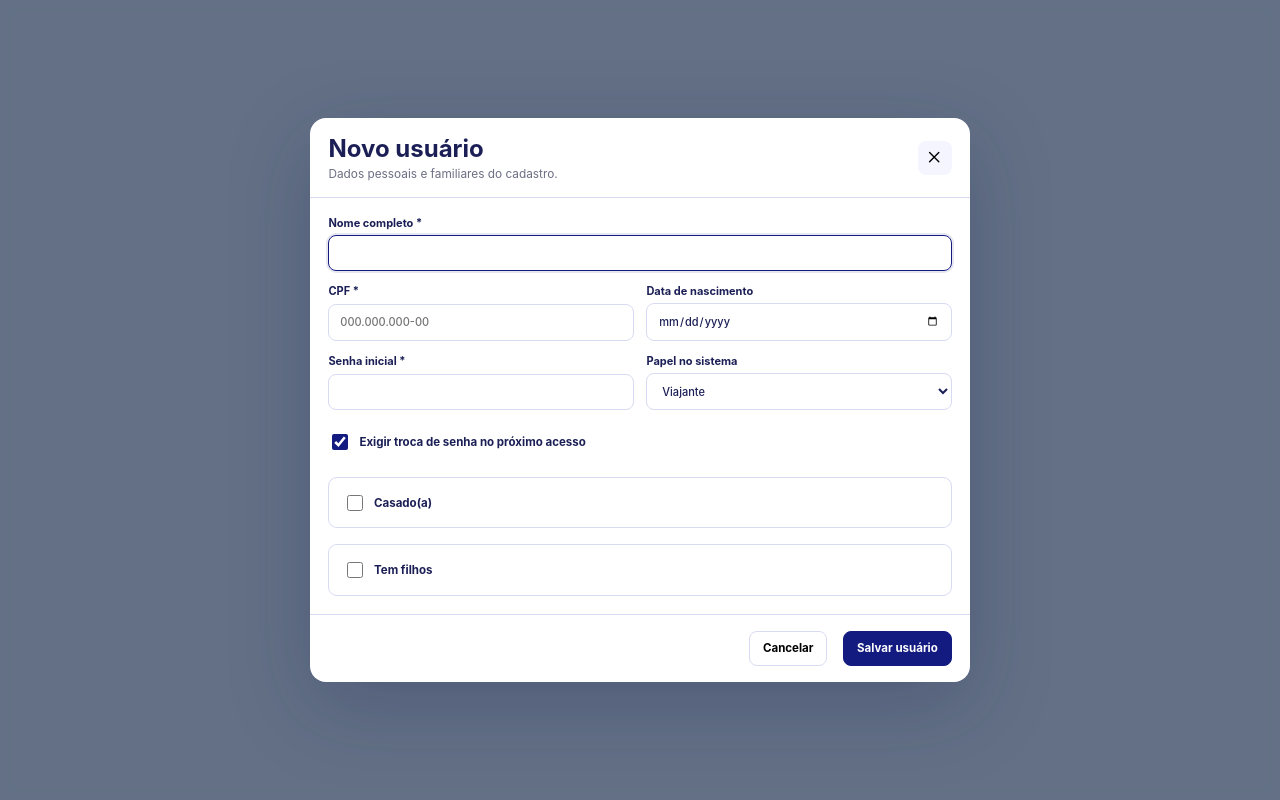
UserForm › mantém o modal aberto e não anuncia sucesso após erro HTTP
The width and height of the screenshot is (1280, 800).
Type "Ana Lima" into the field labelled "Nome completo *" at (640, 253), box left=328, top=235, right=952, bottom=271
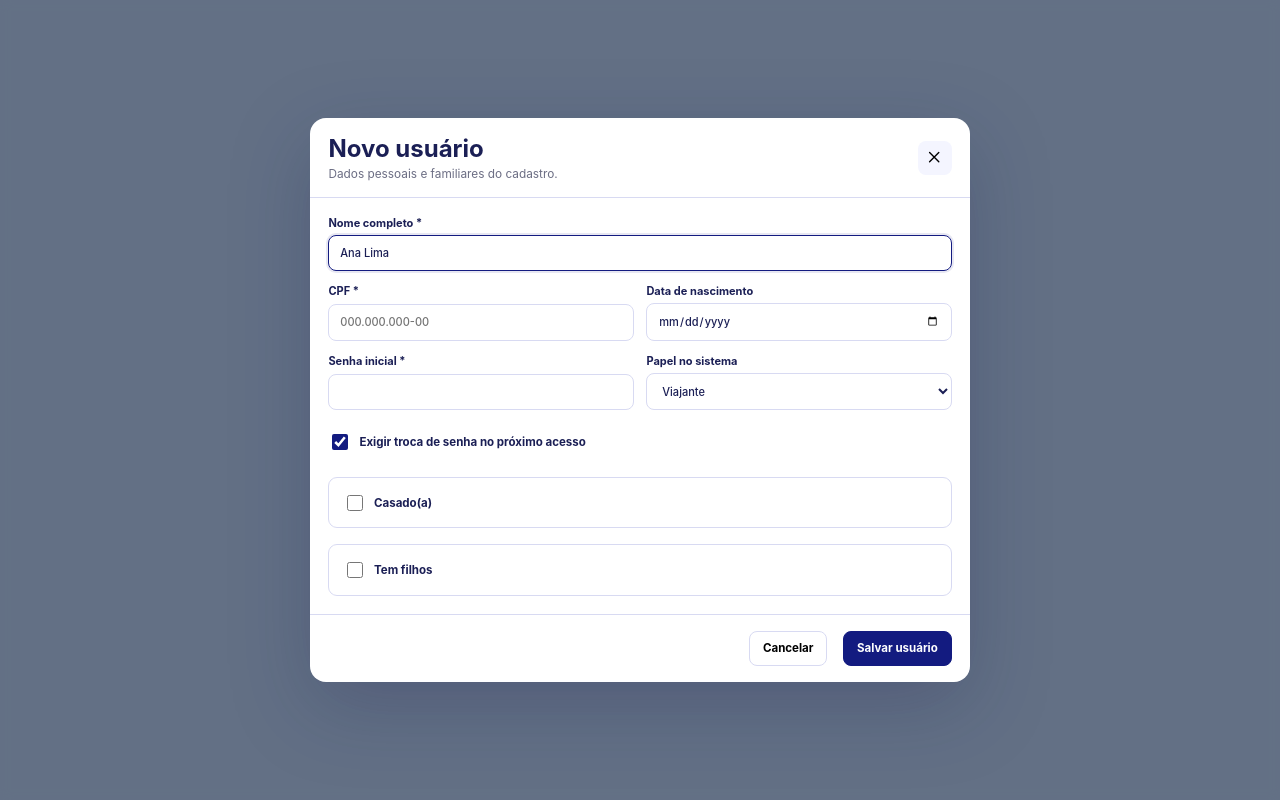
Type "11144477735" into the field labelled "CPF *" at (481, 322), box left=328, top=304, right=634, bottom=341
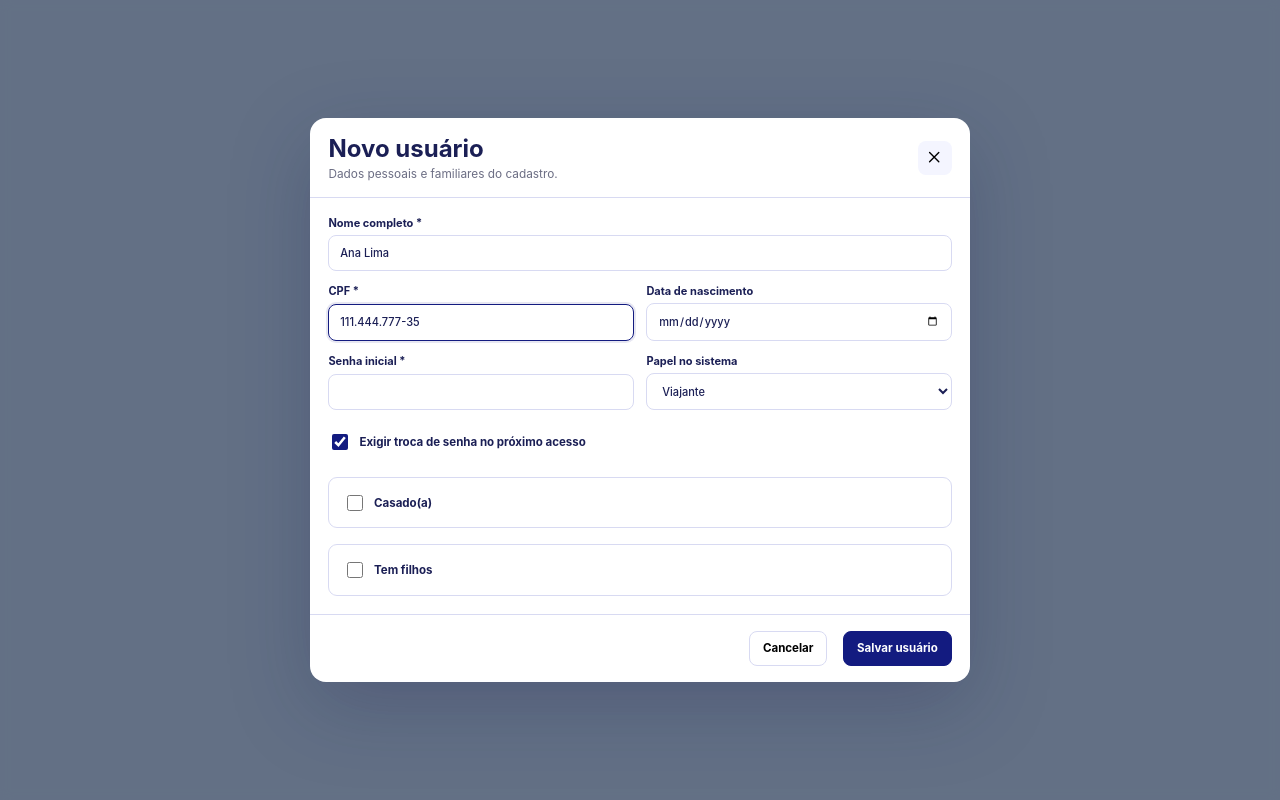
Type "senha-segura" into the password field labelled "Senha inicial *" at (481, 392), box left=328, top=374, right=634, bottom=410
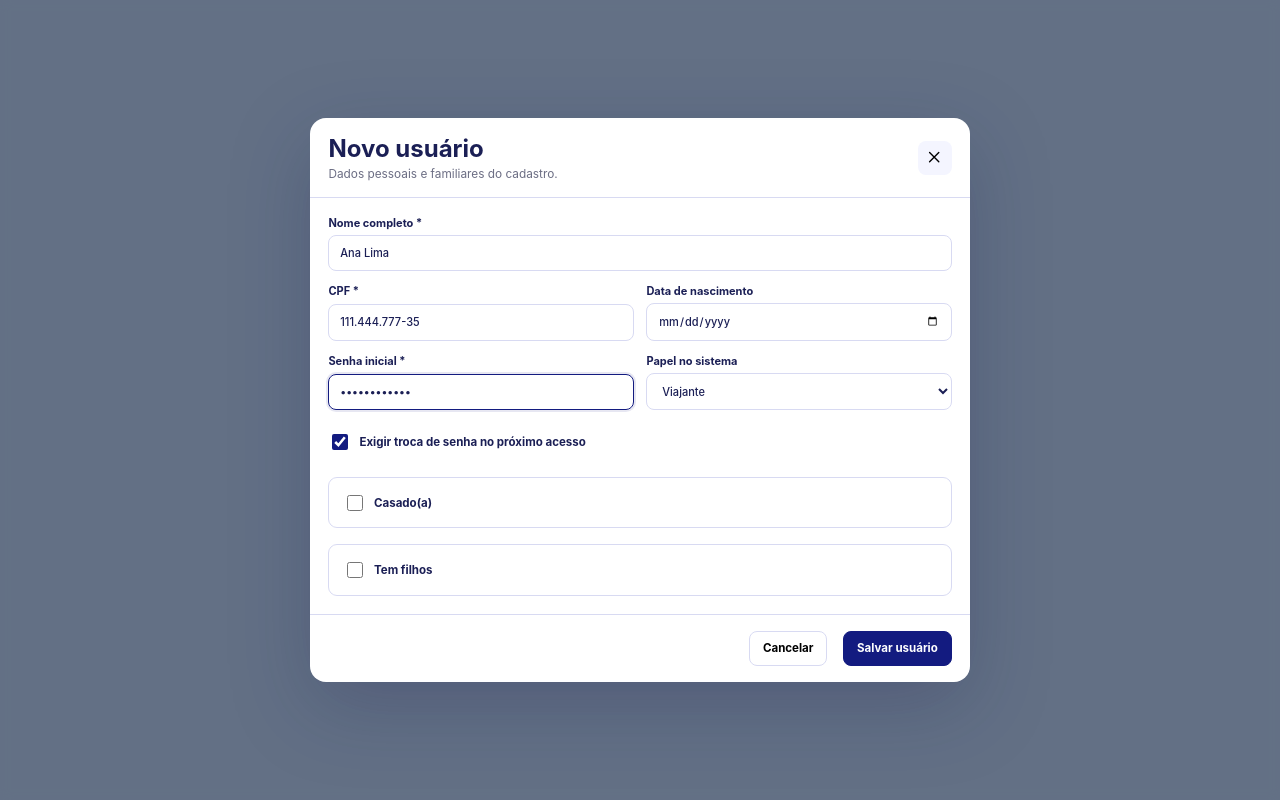
Click the button "Salvar usuário" at (898, 648), box left=843, top=631, right=952, bottom=666
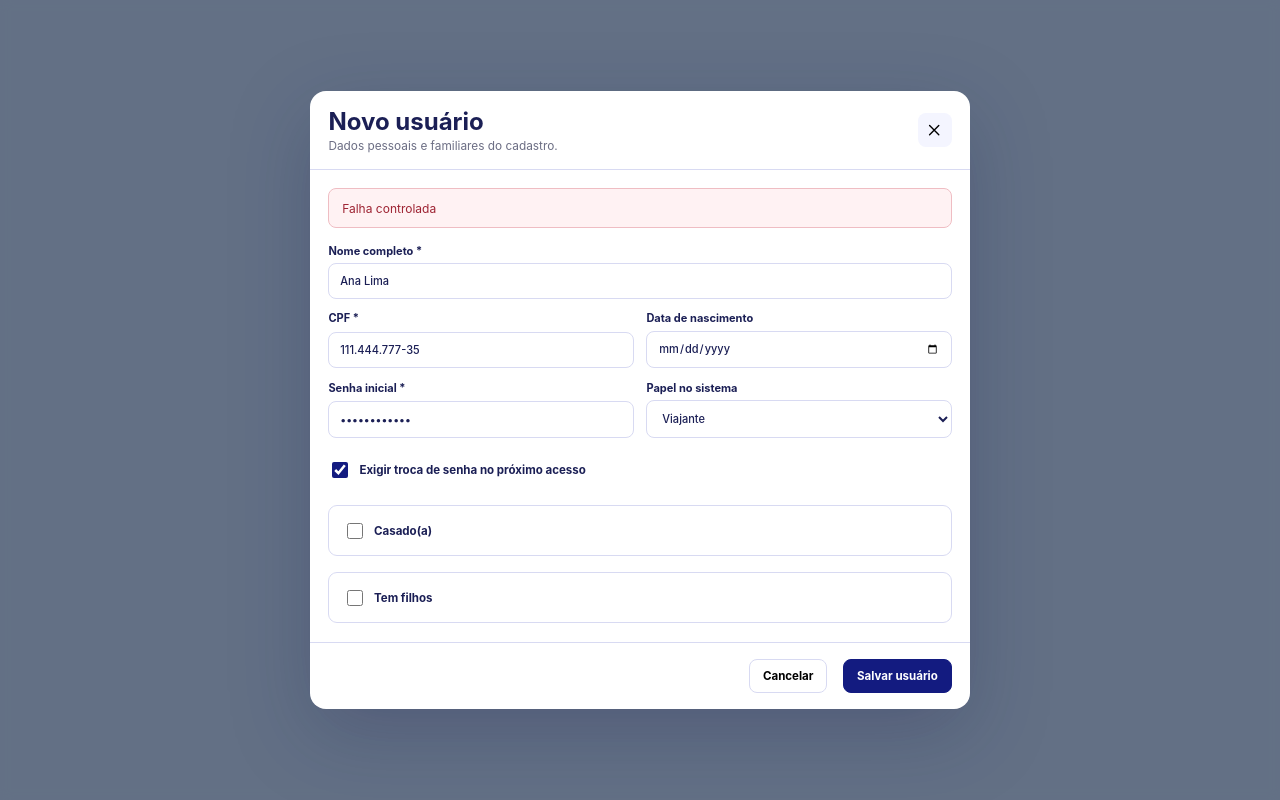
Expected: the dialog is shown, left=310, top=91, right=970, bottom=709
Expected: the message reads "Falha controlada", left=342, top=201, right=436, bottom=216
